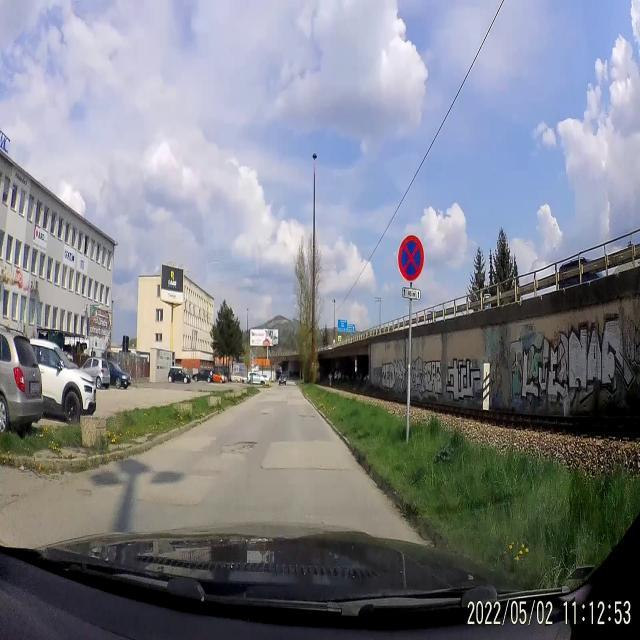Manhole: (261, 411, 270, 416)
Pothole: (220, 436, 258, 458), (75, 487, 94, 498), (298, 411, 316, 421)
